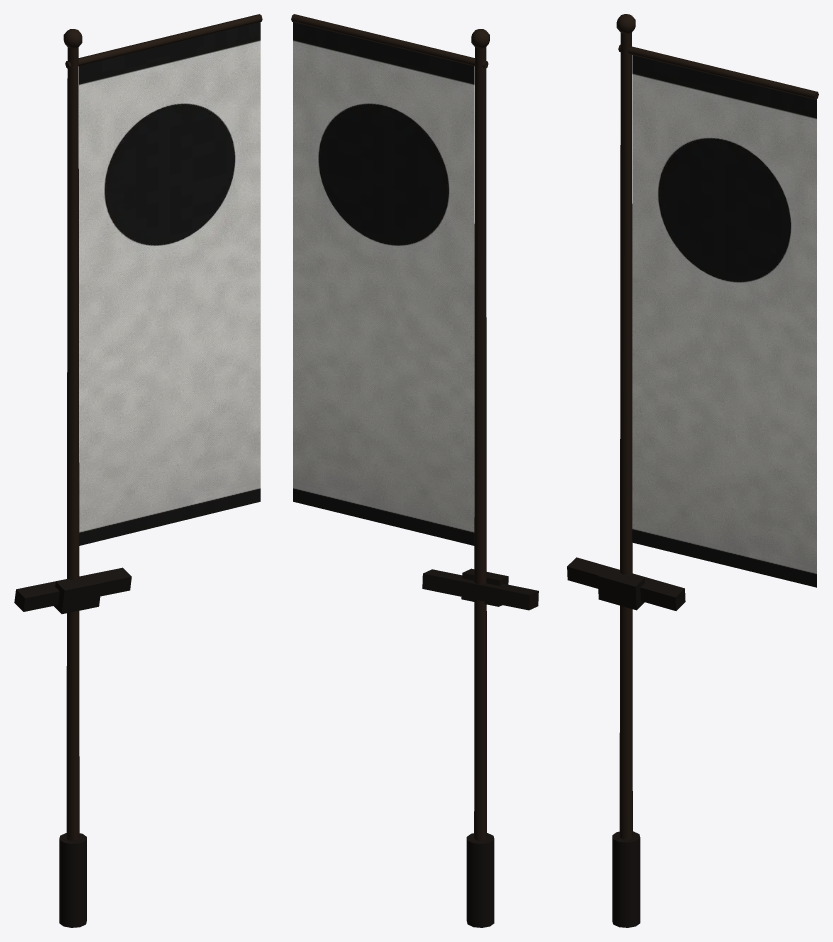
The model's file is sashimono_kit_ashigaru.glb.
3 views of the same model, side by side, from view 1: azimuth 30°, elevation 25°; view 2: azimuth 150°, elevation 25°; view 3: azimuth 330°, elevation 25° (orthographic).
Parts seen in each view (by area): view 1: _MeshInstance3D_325, _MeshInstance3D_322, _MeshInstance3D_328, _MeshInstance3D_331, _MeshInstance3D_323, _MeshInstance3D_330; view 2: _MeshInstance3D_325, _MeshInstance3D_322, _MeshInstance3D_328, _MeshInstance3D_331, _MeshInstance3D_323; view 3: _MeshInstance3D_325, _MeshInstance3D_322, _MeshInstance3D_328, _MeshInstance3D_331, _MeshInstance3D_323, _MeshInstance3D_330.
Part boxes in pixels (<box>): _MeshInstance3D_325: <box>79,22,260,545</box>; _MeshInstance3D_322: <box>66,47,79,840</box>; _MeshInstance3D_328: <box>59,833,86,927</box>; _MeshInstance3D_331: <box>14,567,131,611</box>; _MeshInstance3D_323: <box>65,14,262,68</box>; _MeshInstance3D_330: <box>54,574,101,613</box>; _MeshInstance3D_325: <box>293,22,474,545</box>; _MeshInstance3D_322: <box>474,47,486,840</box>; _MeshInstance3D_328: <box>466,833,494,927</box>; _MeshInstance3D_331: <box>422,569,538,610</box>; _MeshInstance3D_323: <box>291,14,488,68</box>; _MeshInstance3D_325: <box>632,55,816,587</box>; _MeshInstance3D_322: <box>619,33,632,839</box>; _MeshInstance3D_328: <box>612,831,640,927</box>; _MeshInstance3D_331: <box>567,557,685,610</box>; _MeshInstance3D_323: <box>618,44,818,99</box>; _MeshInstance3D_330: <box>597,567,644,610</box>.
Bounding box in the file's own units: 0.4515 × 1.6 × 0.0549.
Materials: 3 (1 with a texture image).
